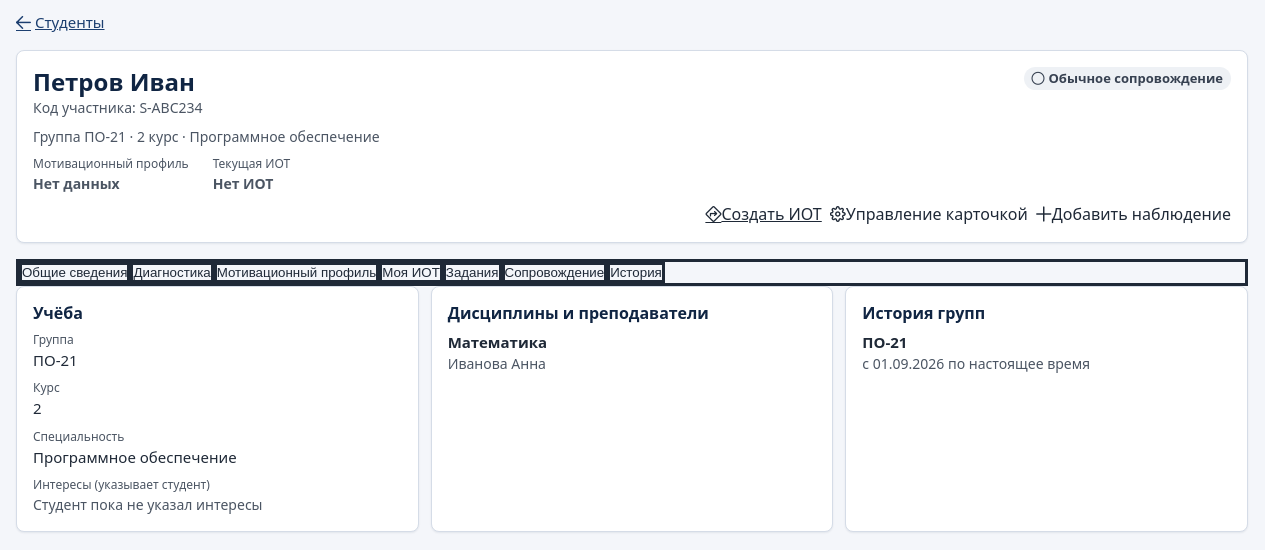
it: StudentProfileView › история загружается при открытии вкладки
The image size is (1265, 550).
Click the tab "История" at (636, 272), box [607, 262, 665, 282]
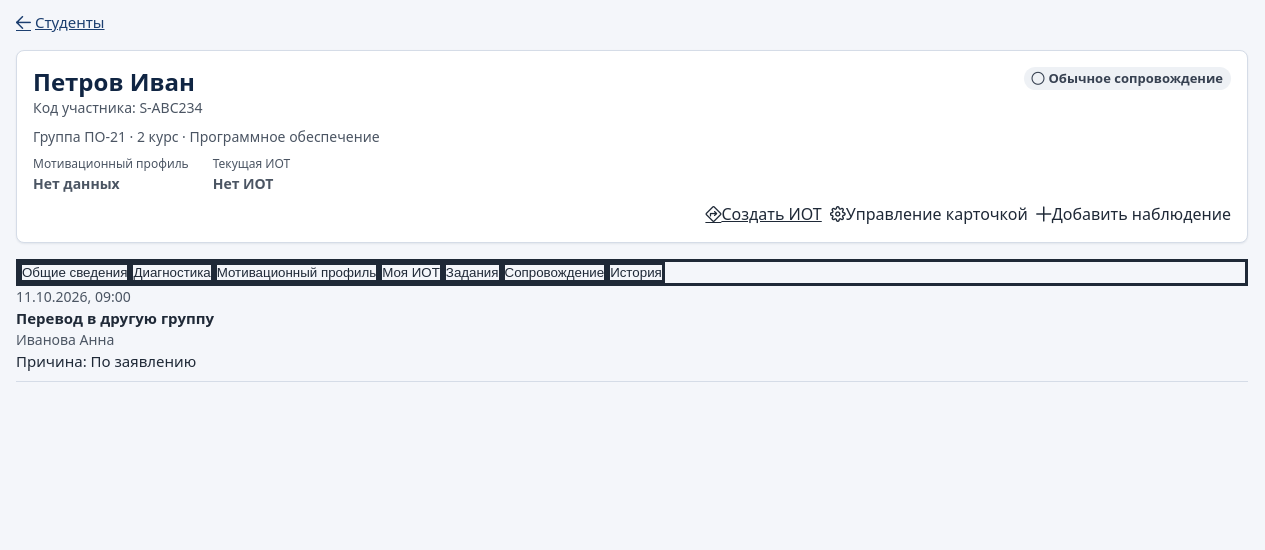
Expected: the text "Перевод в другую группу" is shown, [16, 308, 214, 328]
Expected: the text "Причина: По заявлению" is shown, [16, 351, 196, 371]
